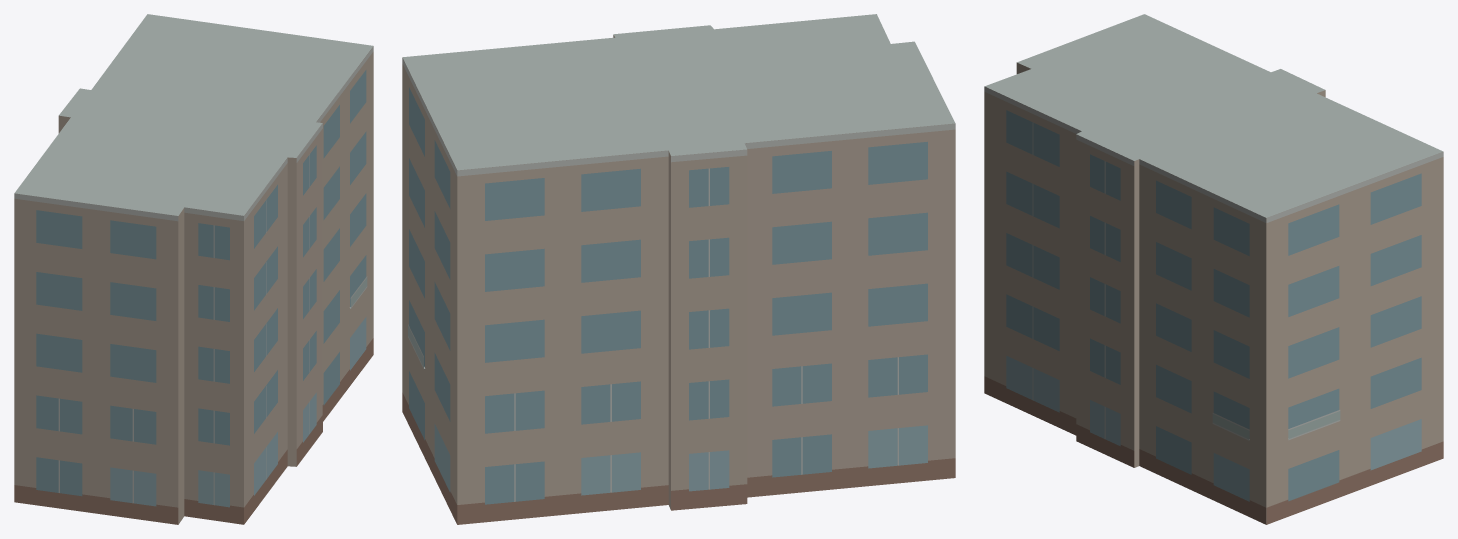
File: survey-upis-32642252.glb
The picture shows the model from 3 angles, left to right: view 1: azimuth 30°, elevation 25°; view 2: azimuth 150°, elevation 25°; view 3: azimuth 270°, elevation 25°; orthographic projection. The views are drawn at different scales.
Visible parts, largest first — view 1: survey-upis-32642252.tmp; view 2: survey-upis-32642252.tmp; view 3: survey-upis-32642252.tmp.
Boxes of the visible parts, x1,y1,x2,y2 form: survey-upis-32642252.tmp: (14, 14, 373, 524); survey-upis-32642252.tmp: (402, 14, 955, 524); survey-upis-32642252.tmp: (984, 14, 1443, 524).
Bounding box in the file's own units: 20.25 × 14.2 × 19.26.
